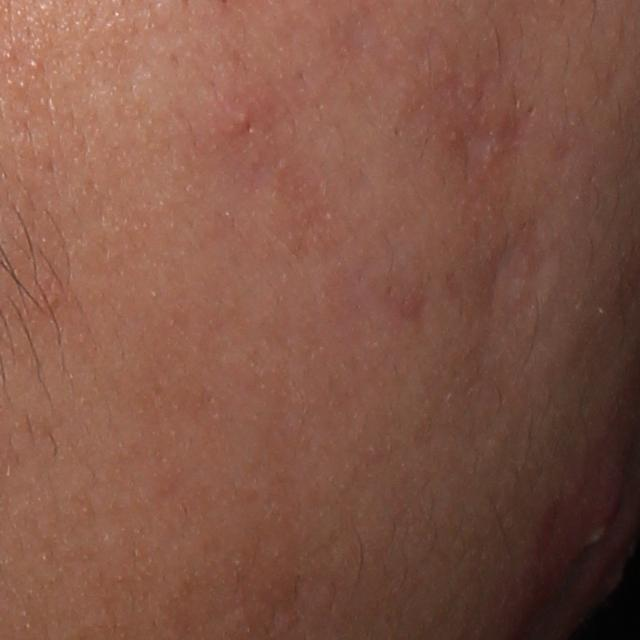papule: (224, 102, 265, 135)
